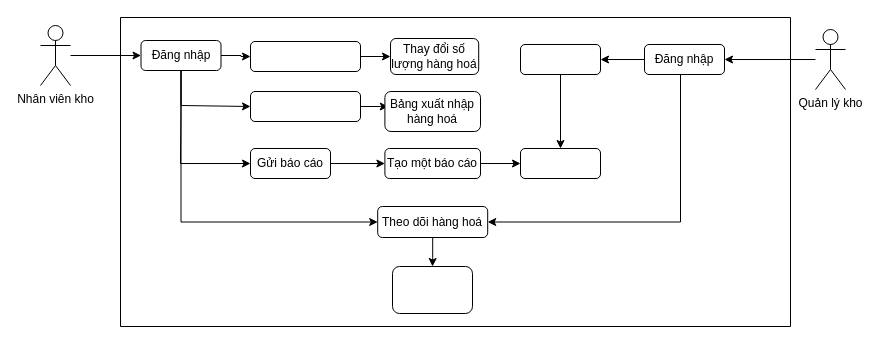
This 880x344 diagram has some shape labels left out. The shapes that lost their labels are listed below. From the top down, each one's centre as x and y in pixels, then its label:
At point (305, 56): "Cập nhật mức tồn kho".
At point (560, 59): "Xem báo cáo".
At point (305, 106): "Kiểm kê hàng hoá".
At point (560, 163): "Danh sách báo cáo".
At point (432, 290): "Bảng danh sách hàng hoá".
